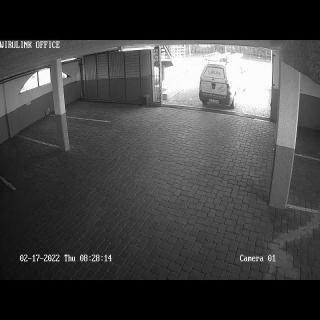car: (198, 58, 249, 110)
